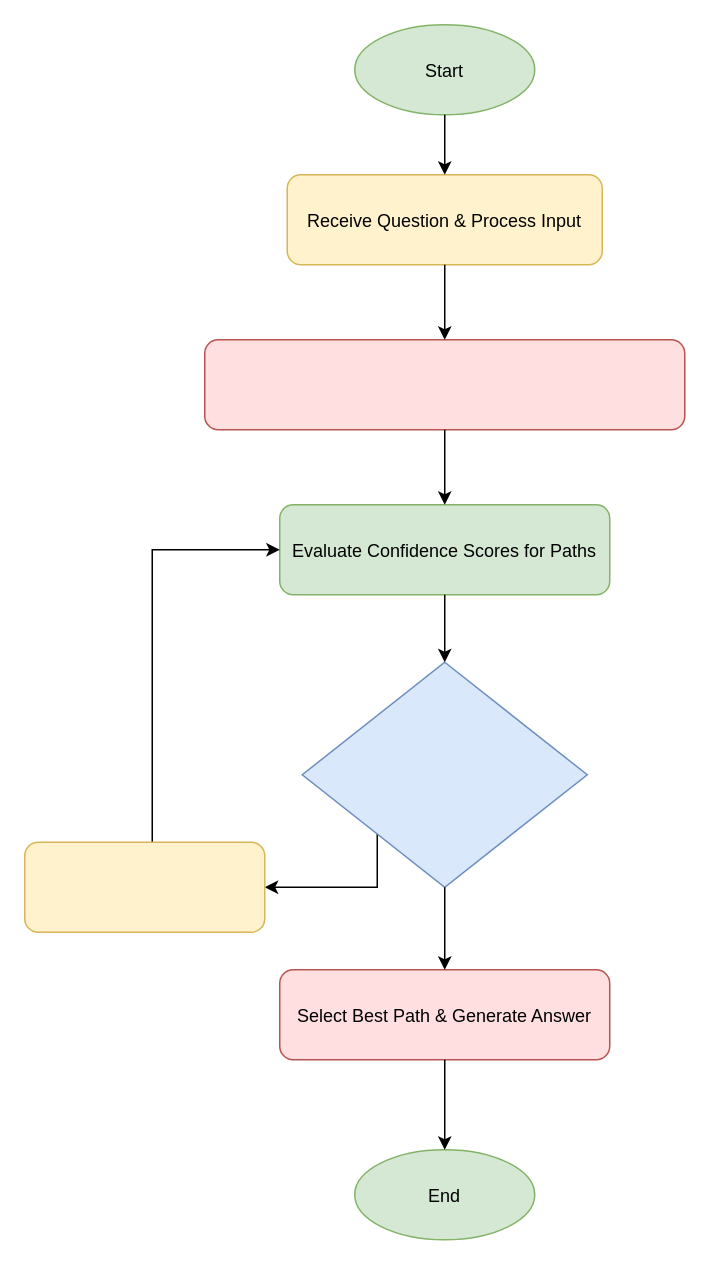
Some shapes in this 710 by 1265 pixel diagram are drawn without their labels. The shapes that lost their labels are listed below. From the top down, each one's box as (x1, y1, x2, y2) in pixels, then its label:
(203, 338, 685, 430): Alternative Decoding Strategy (Top-K / Beam Search)
(301, 661, 587, 887): Filter Low-Confidence Paths?
(23, 841, 265, 932): Recalculate Scores
